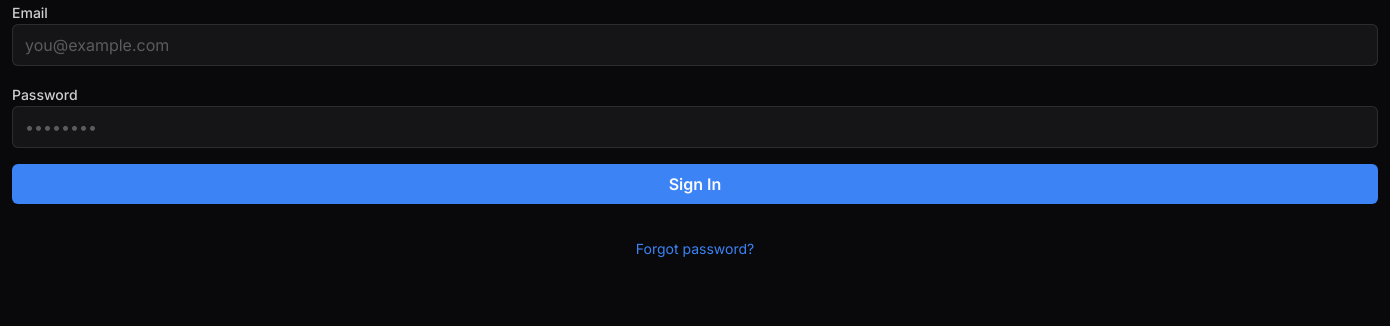
EmailSignUp Component › displays auth errors from Supabase
The image size is (1390, 326).
Type "test@example.com" into the field with placeholder "you@example.com" at {"x": 695, "y": 45}, box [12, 24, 1378, 66]
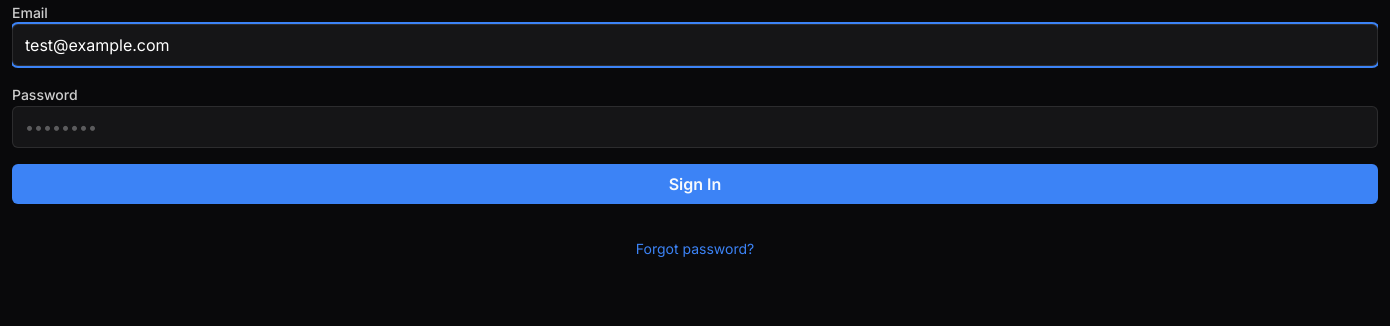
Type "wrongpass" into the password field with placeholder "••••••••" at {"x": 695, "y": 127}, box [12, 106, 1378, 148]
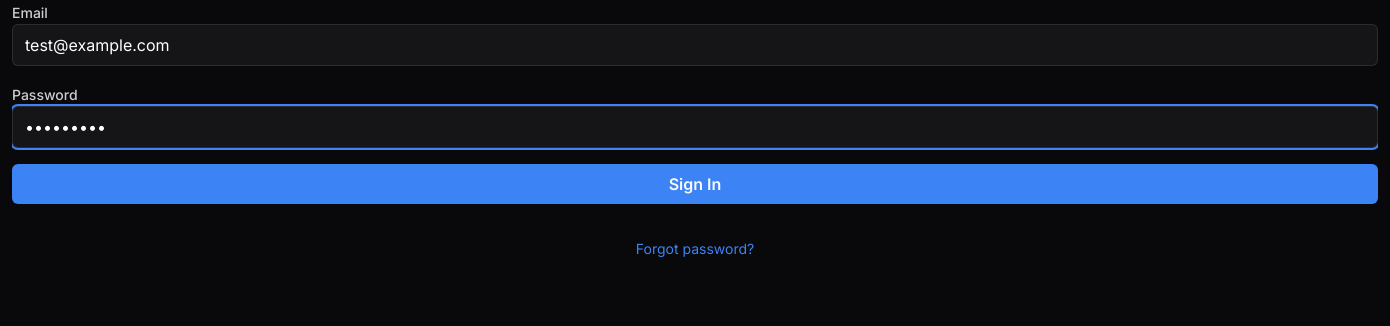
Click the button "Sign In" at {"x": 695, "y": 184}, box [12, 164, 1378, 204]
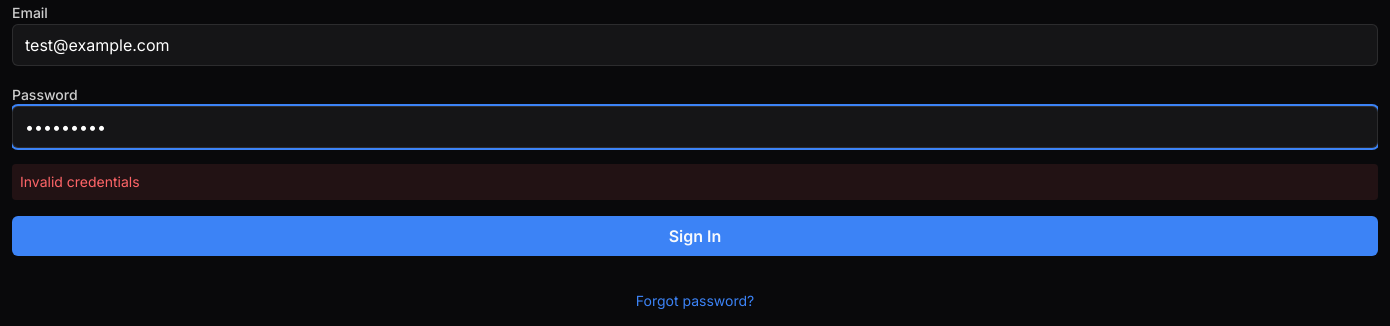
Expected: the text "Invalid credentials" is shown, [12, 164, 1378, 200]
